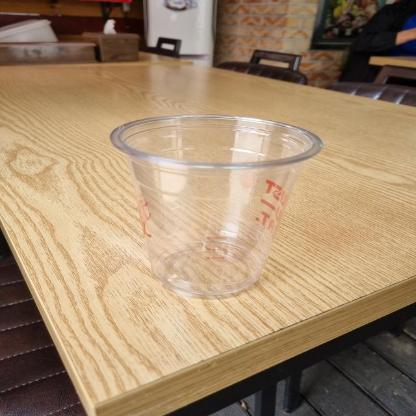Plastic Cup: (102, 108, 333, 306)
